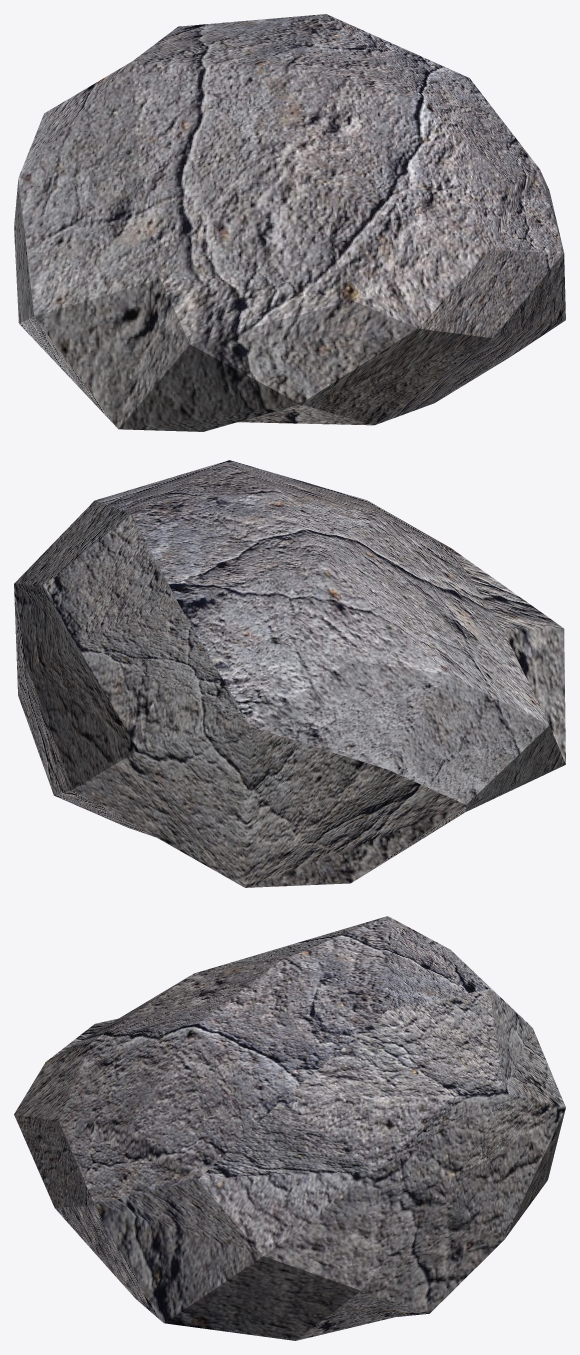
The model's file is rock_0.fbx.
3 views of the same model, one above another, from view 1: azimuth 30°, elevation 25°; view 2: azimuth 150°, elevation 25°; view 3: azimuth 270°, elevation 25° (orthographic).
Parts seen in each view (by area): view 1: Cube.006; view 2: Cube.006; view 3: Cube.006.
Part boxes in pixels (x1,y1,x2,y2): Cube.006: (14,14,565,431); Cube.006: (14,460,565,887); Cube.006: (14,916,565,1340).
Bounding box in the file's own units: 1697 × 1012 × 1588.
